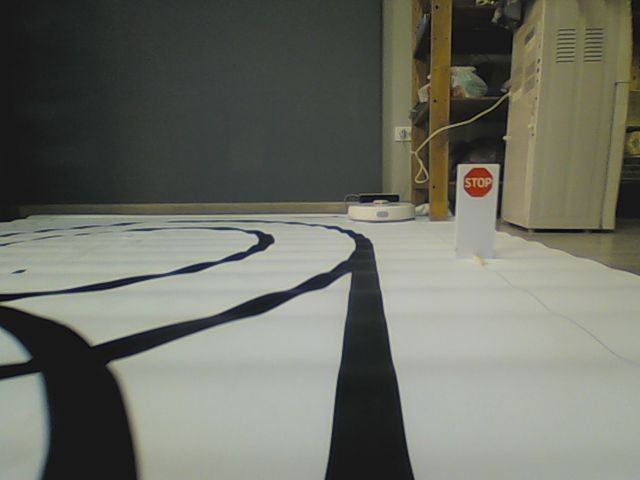Stop: (462, 166, 494, 198)
